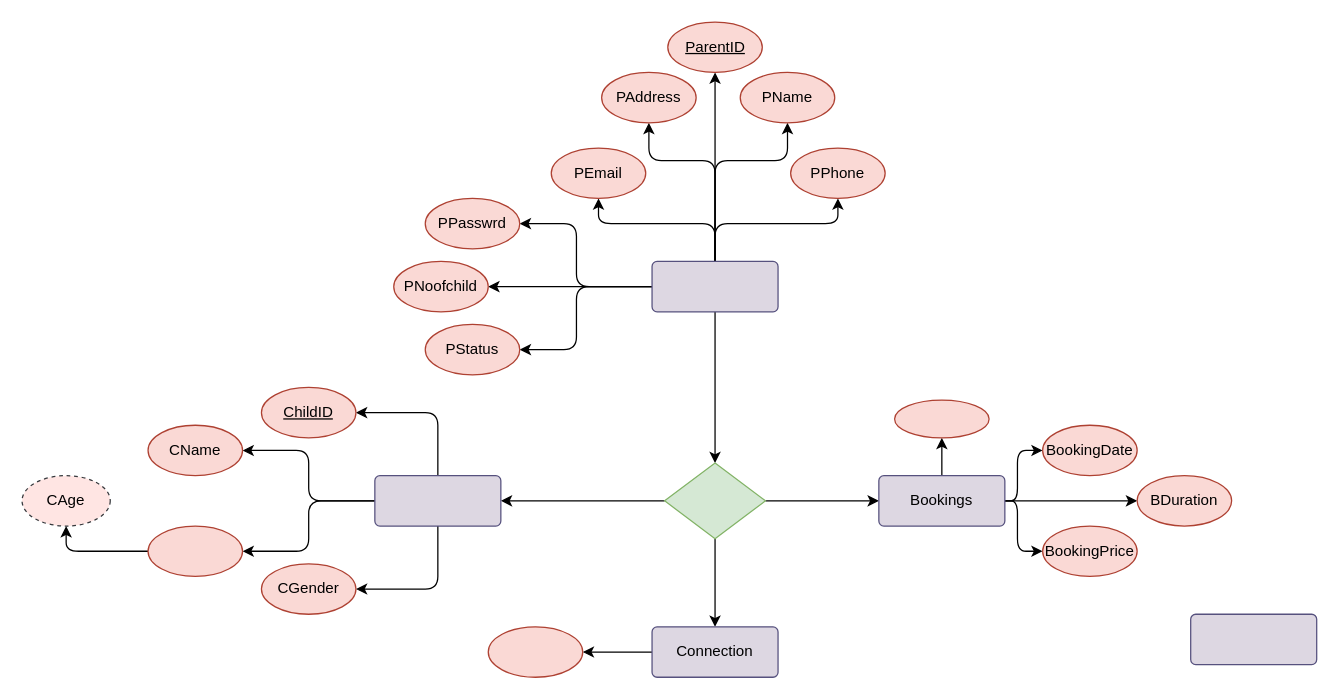
Image size: 1339x699. Some labels were removed from this diagram. The box of each missing label's shape, as (x1, y1, x2, y2) in pixels:
Babysitter: (1189, 613, 1317, 665)
BookingID: (893, 399, 989, 438)
CDOB: (147, 525, 243, 576)
Child: (374, 474, 501, 526)
Date: (487, 626, 583, 677)
Has: (663, 462, 765, 539)
Parent: (651, 260, 778, 312)
